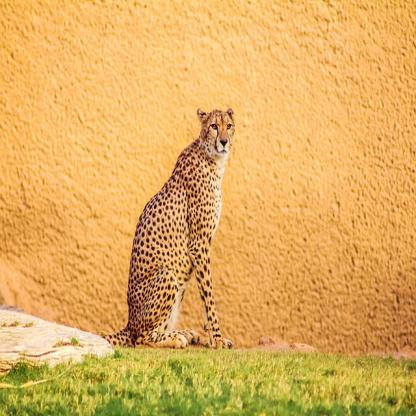cat: (102, 108, 235, 350)
